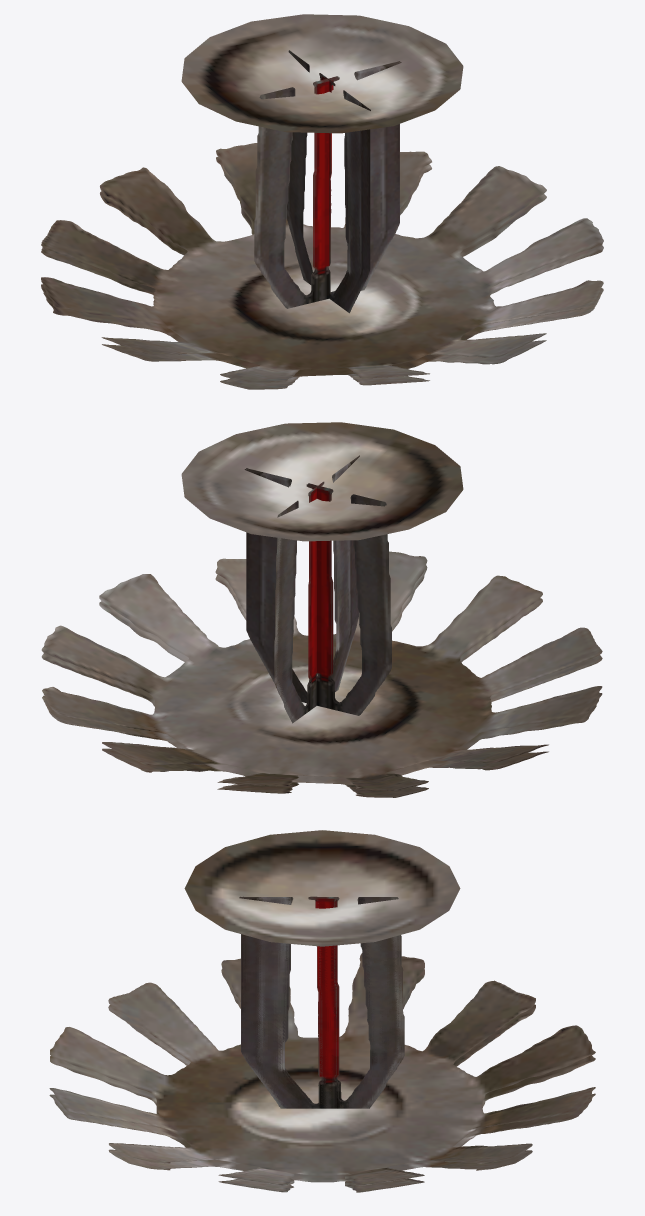
Rendered from fire_sprinkler.dae.
The picture shows the model from 3 angles, top to bottom: view 1: azimuth 30°, elevation 25°; view 2: azimuth 150°, elevation 25°; view 3: azimuth 270°, elevation 25°; orthographic projection. The views are drawn at different scales.
Parts seen in each view (by area): view 1: polySurface228; view 2: polySurface228; view 3: polySurface228.
Part boxes in pixels (box(x1,y1,x2,y2)): polySurface228: box(41, 14, 603, 389); polySurface228: box(41, 422, 602, 797); polySurface228: box(49, 830, 595, 1192).
Bounding box in the file's own units: 18.67 × 7.6 × 18.67.
